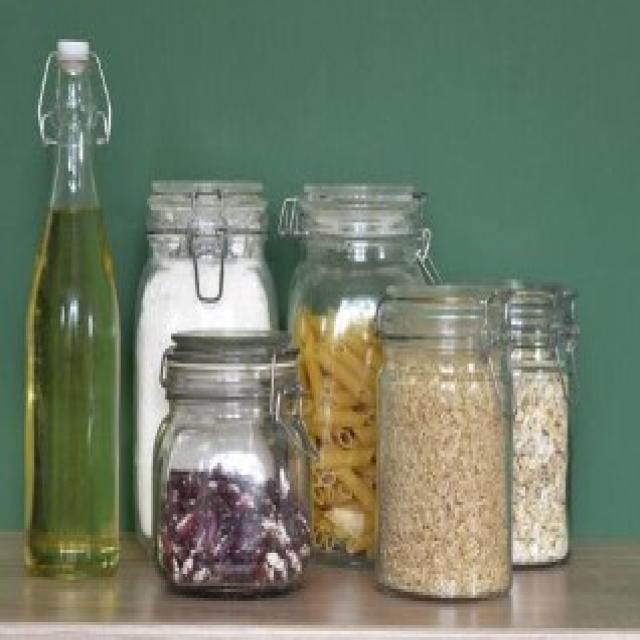electronic: (25, 33, 577, 598)
